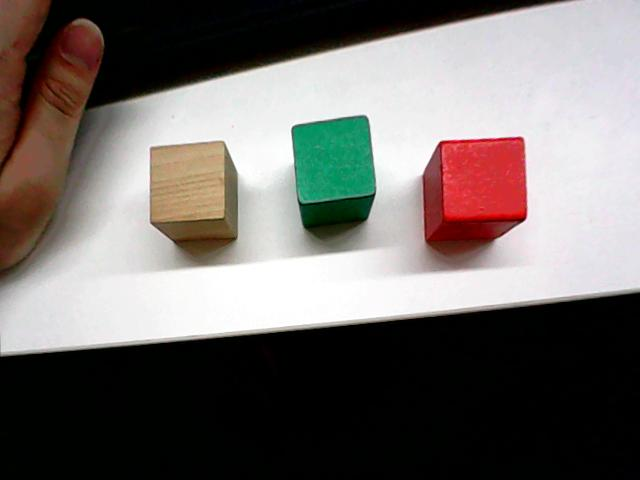green_box: (287, 111, 379, 231)
raw_box: (145, 138, 246, 245)
red_box: (419, 131, 531, 246)
